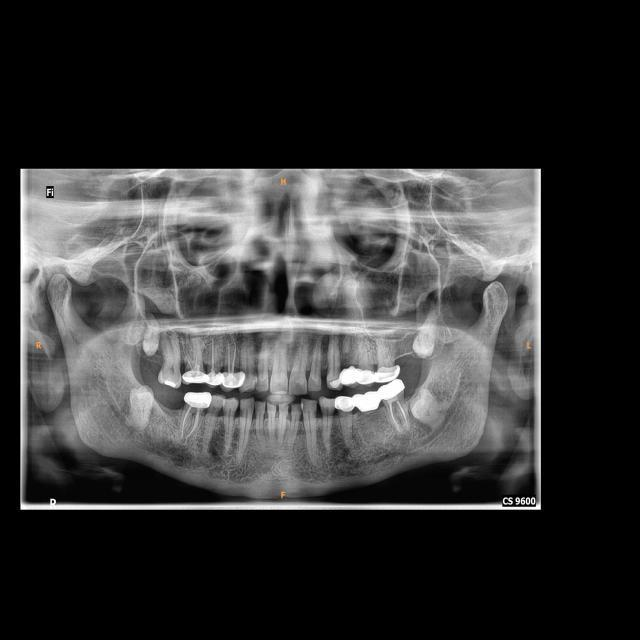dolgu: (327, 374, 342, 389), (161, 377, 179, 389)
implant: (338, 364, 366, 386)
kanal-tedavisi: (176, 405, 202, 439), (388, 401, 409, 429), (223, 338, 237, 372), (208, 337, 218, 372)
kaplama: (184, 388, 212, 412), (380, 380, 406, 398), (223, 372, 247, 389), (376, 365, 401, 381), (335, 393, 354, 414), (358, 364, 375, 386), (184, 370, 209, 384), (207, 370, 224, 385)
kopru: (349, 389, 388, 415)
